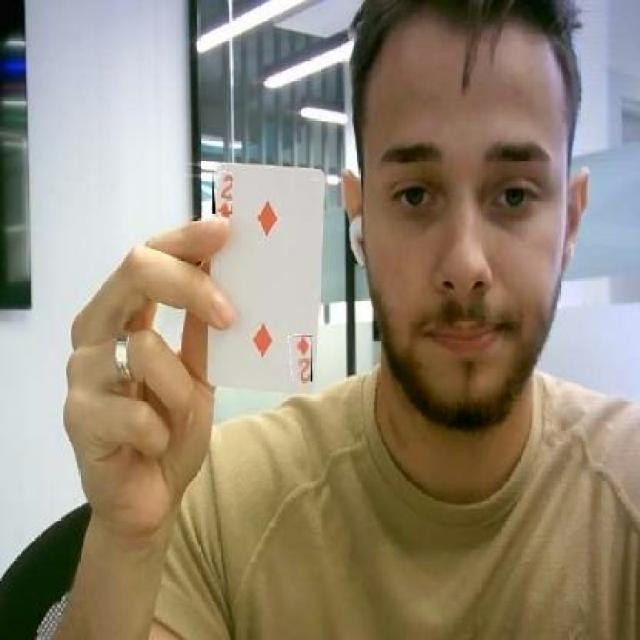2D: (290, 335, 312, 382), (212, 172, 232, 214)
